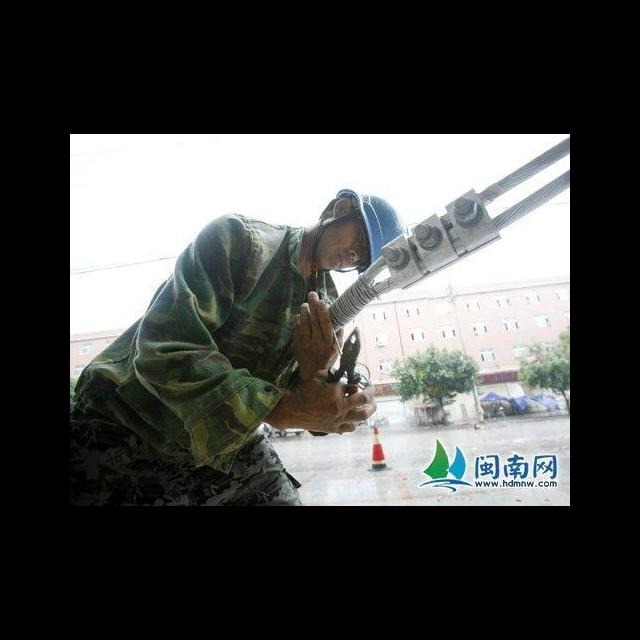Hardhat: (337, 187, 402, 272)
NO-Mask: (319, 225, 348, 270)
NO-Safety Vest: (116, 216, 333, 468)
Person: (70, 187, 405, 506)
Safety Cone: (367, 424, 391, 473)
vehicle: (259, 419, 306, 438)
